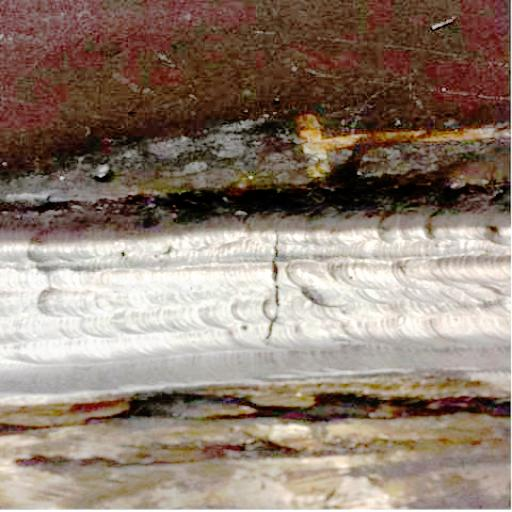crack: (260, 229, 294, 340)
